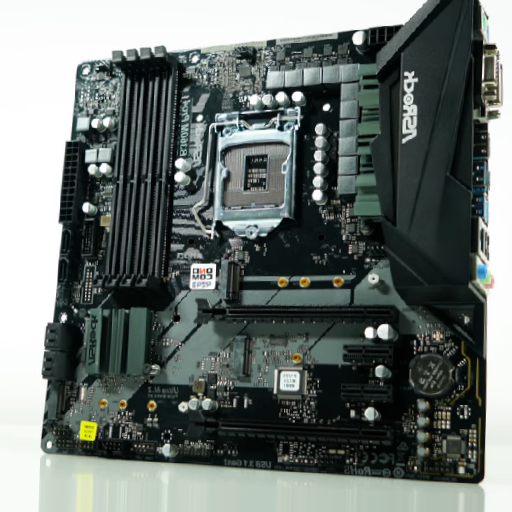CPU: (211, 106, 301, 240)
GPU: (186, 408, 390, 442), (195, 298, 399, 325)
MOTHERBOARD: (39, 13, 487, 483)
RAM: (91, 46, 178, 291)
SSD: (230, 333, 249, 380), (220, 258, 240, 300)
